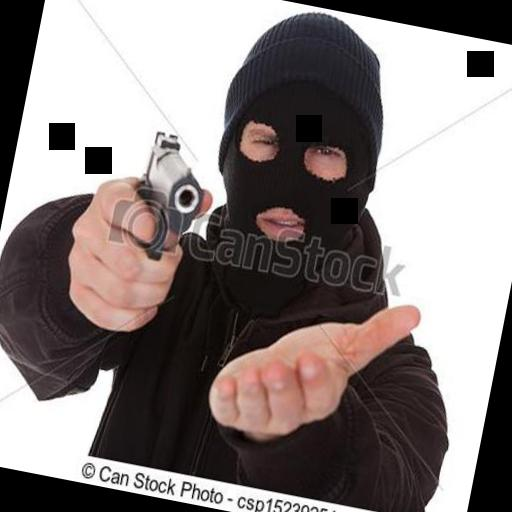Handgun: (126, 123, 214, 271)
